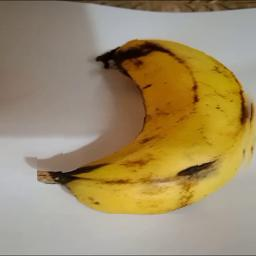Banana Semifresh: (37, 32, 256, 214)
